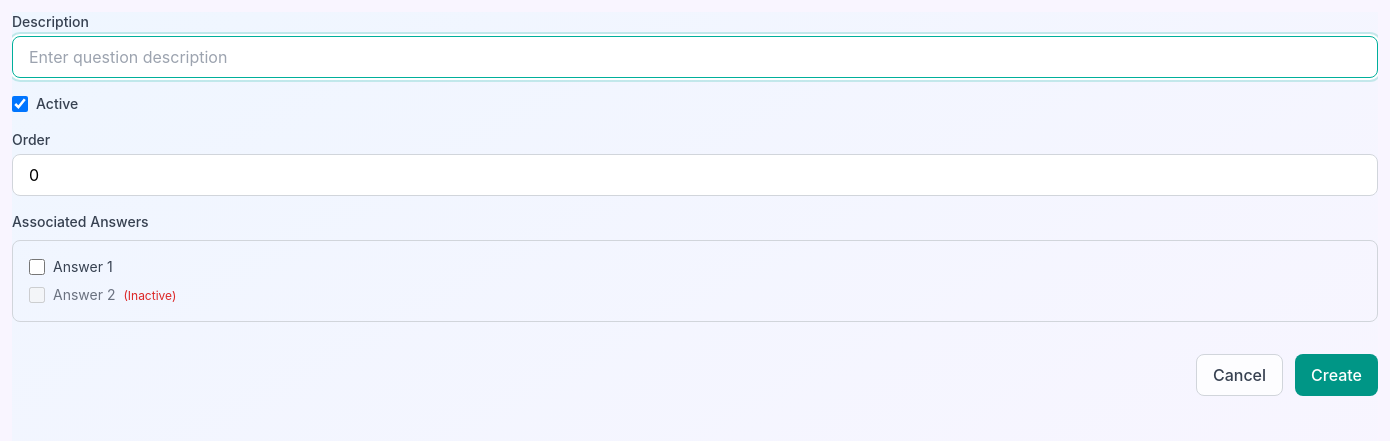
Scenario: QuestionForm › shows error when trying to submit with inactive answers selected via server error
In the field with placeholder "Enter question description": coordinates (695, 57) [12, 36, 1378, 78], type "New Question"
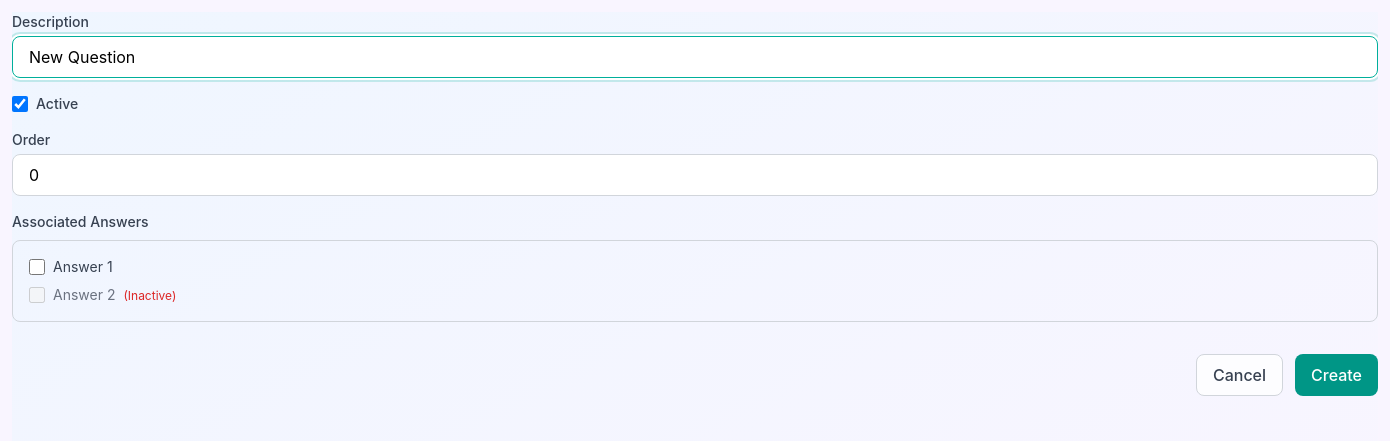
Click the button "Create": coordinates (1336, 375) [1295, 354, 1378, 396]
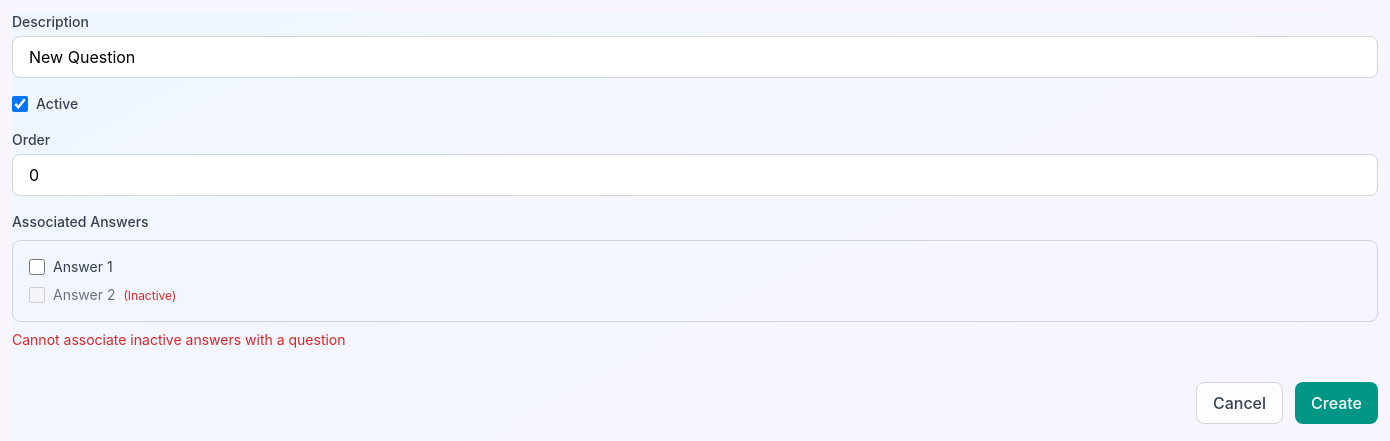
Check: the message reads "Cannot associate inactive answers with a question", box [12, 331, 346, 348]
